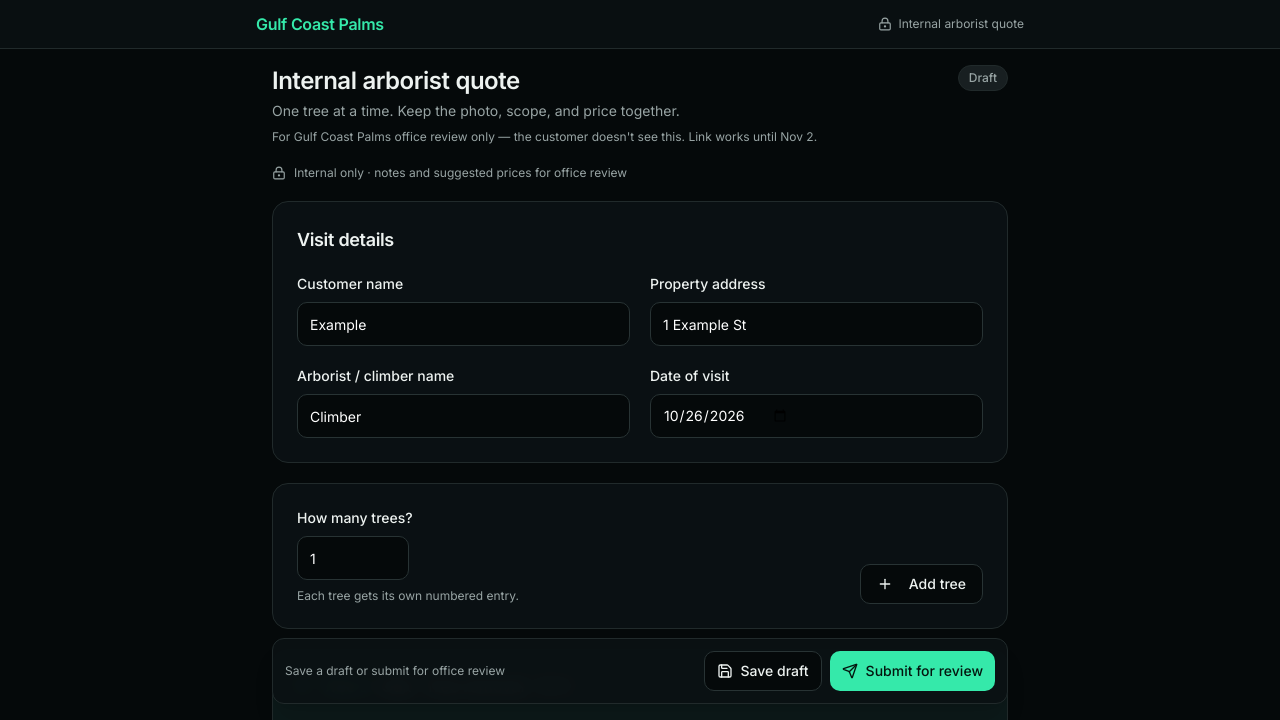
Scenario: arborist guest quote link › submits for review and then shows the received state with the form locked
The width and height of the screenshot is (1280, 720).
Click the button "Submit for review".
click(912, 671)  # box x1=830 y1=651 x2=995 y2=691
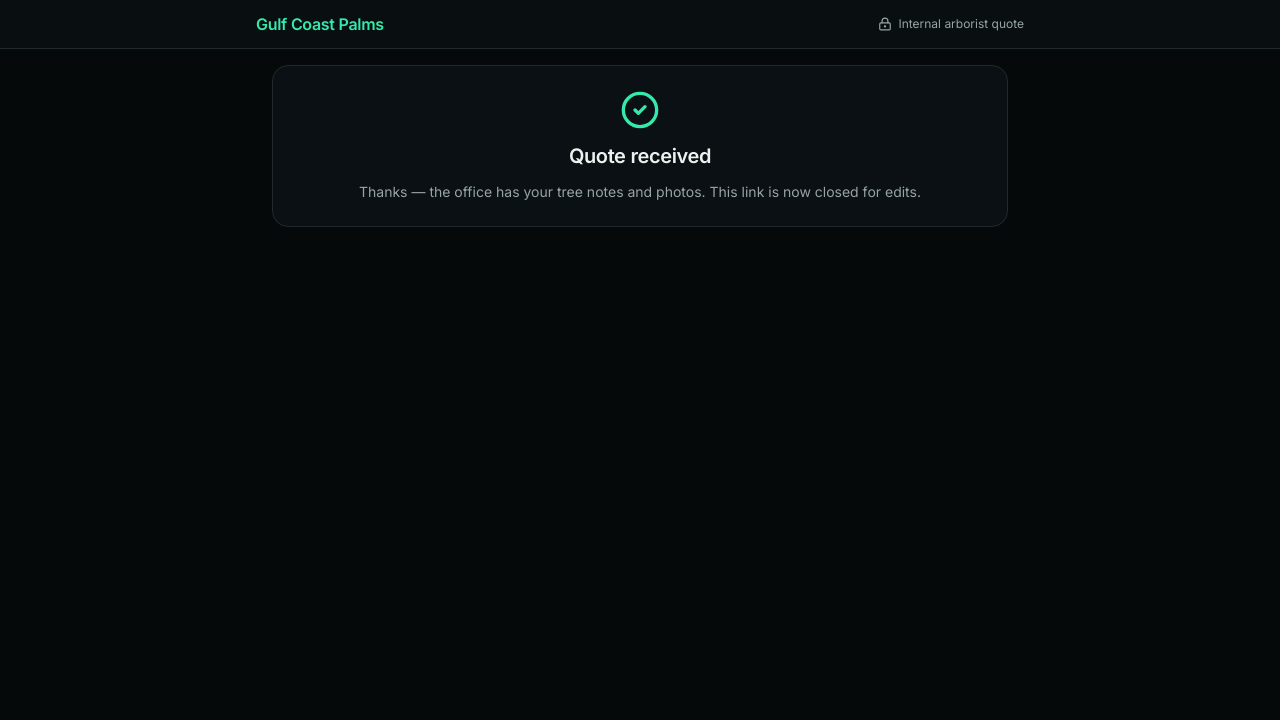
expect the heading "Quote received" is shown: met, box x1=569 y1=144 x2=711 y2=168
expect the button "Save draft" is gone: met
